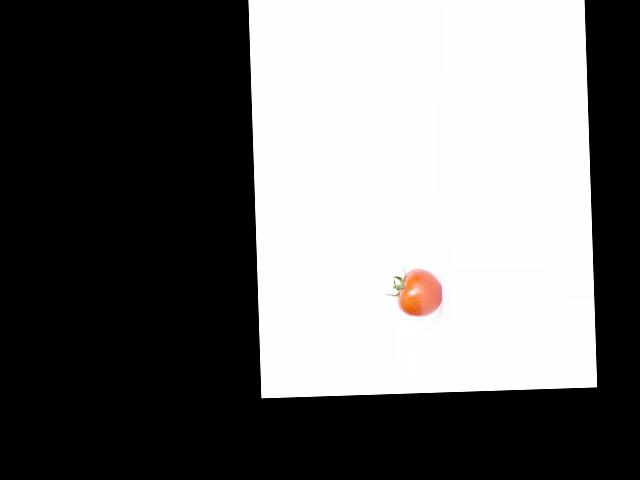tomato: (396, 268, 442, 317)
